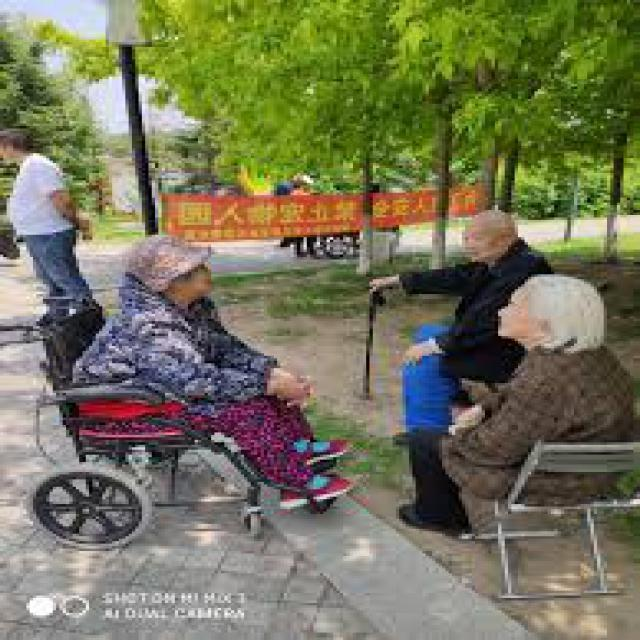wheelchairs: (7, 289, 340, 536)
